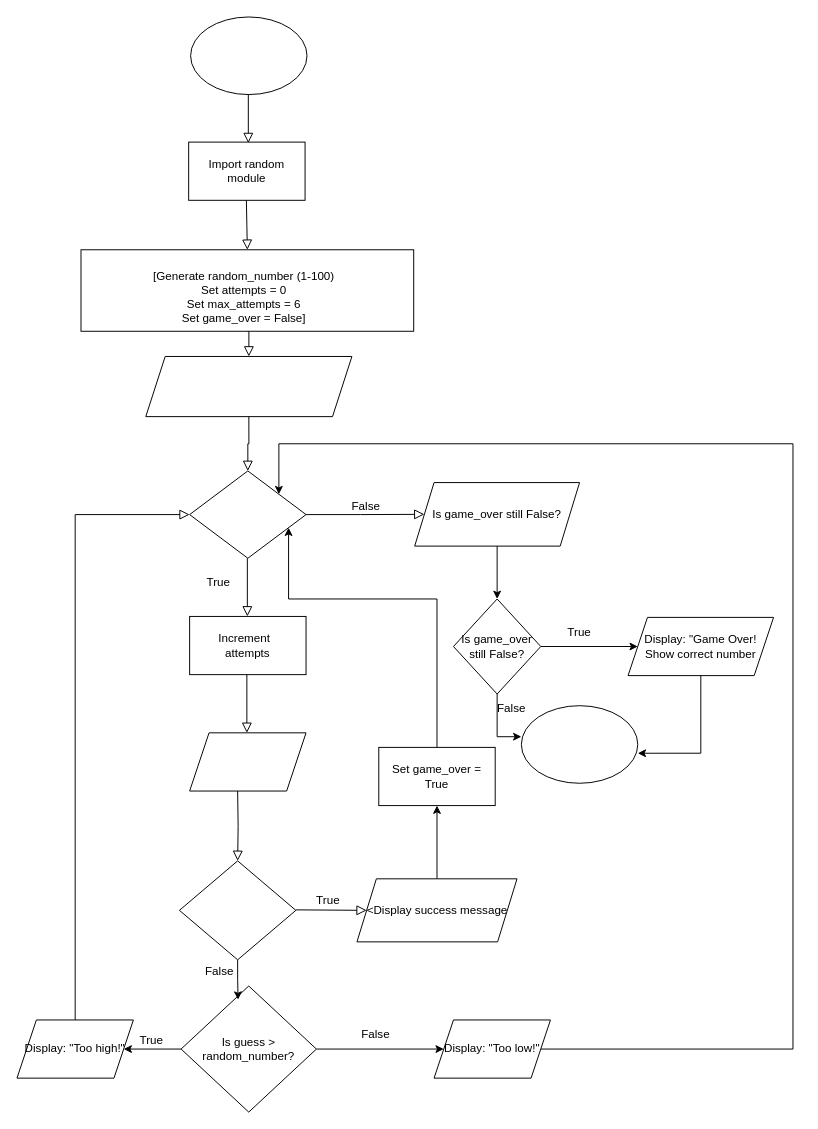
This 818x1129 diagram has some shape labels left out. Each missing label, with the centre of its shape:
<Display welcome message> <Explain rules> <Show attempts allowed>: (x=248, y=386)
attempts < max_attempts AND not game_over?: (x=247, y=514)
End: (x=579, y=744)
Is guess correct?: (x=237, y=910)
Prompt and receive user guess: (x=247, y=761)
Start: (x=248, y=55)
